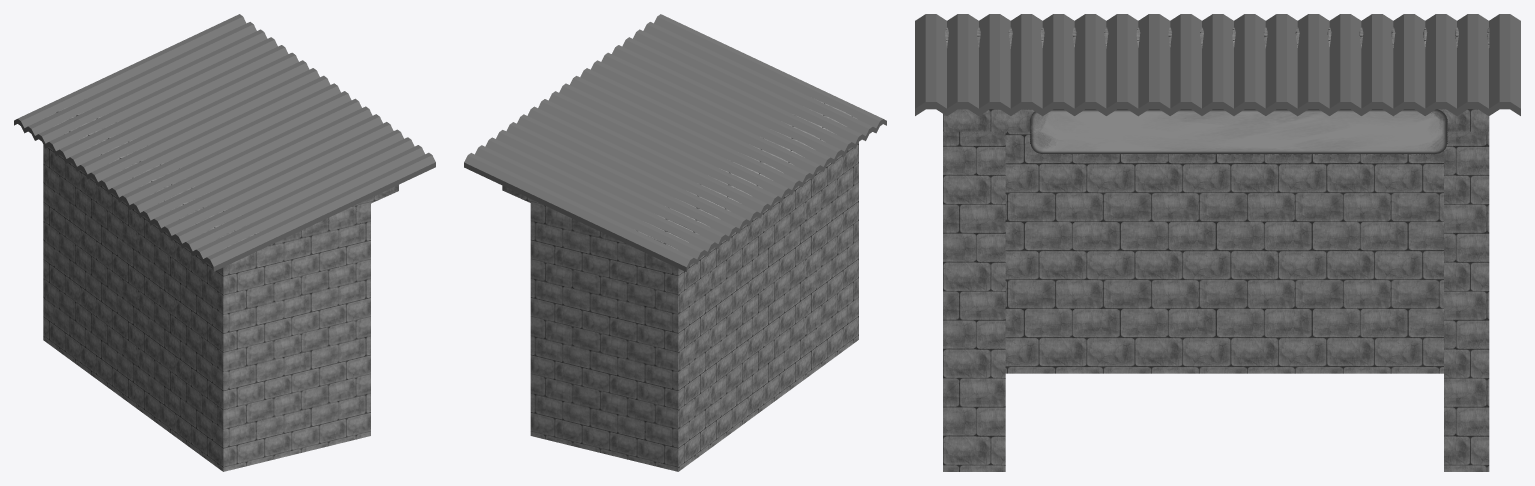
The model's file is busStop.fbx.
3 views of the same model, side by side, from view 1: azimuth 30°, elevation 25°; view 2: azimuth 150°, elevation 25°; view 3: azimuth 270°, elevation 25° (orthographic). The views are drawn at different scales.
Visible parts, largest first — view 1: Base.003, Cube; view 2: Base.003, Cube; view 3: Base.003, Cube, Plane.001.
Part boxes in pixels (x1,y1,x2,y2): Base.003: (43,100,398,471); Cube: (14,14,435,271); Base.003: (502,99,858,471); Cube: (464,14,886,271); Base.003: (943,27,1489,471); Cube: (915,14,1520,116); Plane.001: (1030,109,1447,154).
Size of the model in its own units: 785 by 917 by 1223.
